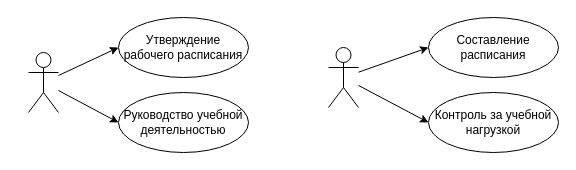
Image size: 576x170. Some labels were removed from this diagram. The shapes that lost their labels are listed below. From the top down, each one's box as (x1, y1, x2, y2) in pixels, then its label:
(28, 52, 58, 112): Директор
(328, 46, 358, 108): Заместитель директора по учебной работе
